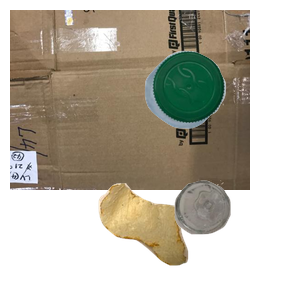cardboard: (10, 10, 250, 190)
glass: (172, 178, 300, 300)
plastic: (142, 48, 300, 169)
trash: (96, 181, 277, 300)
